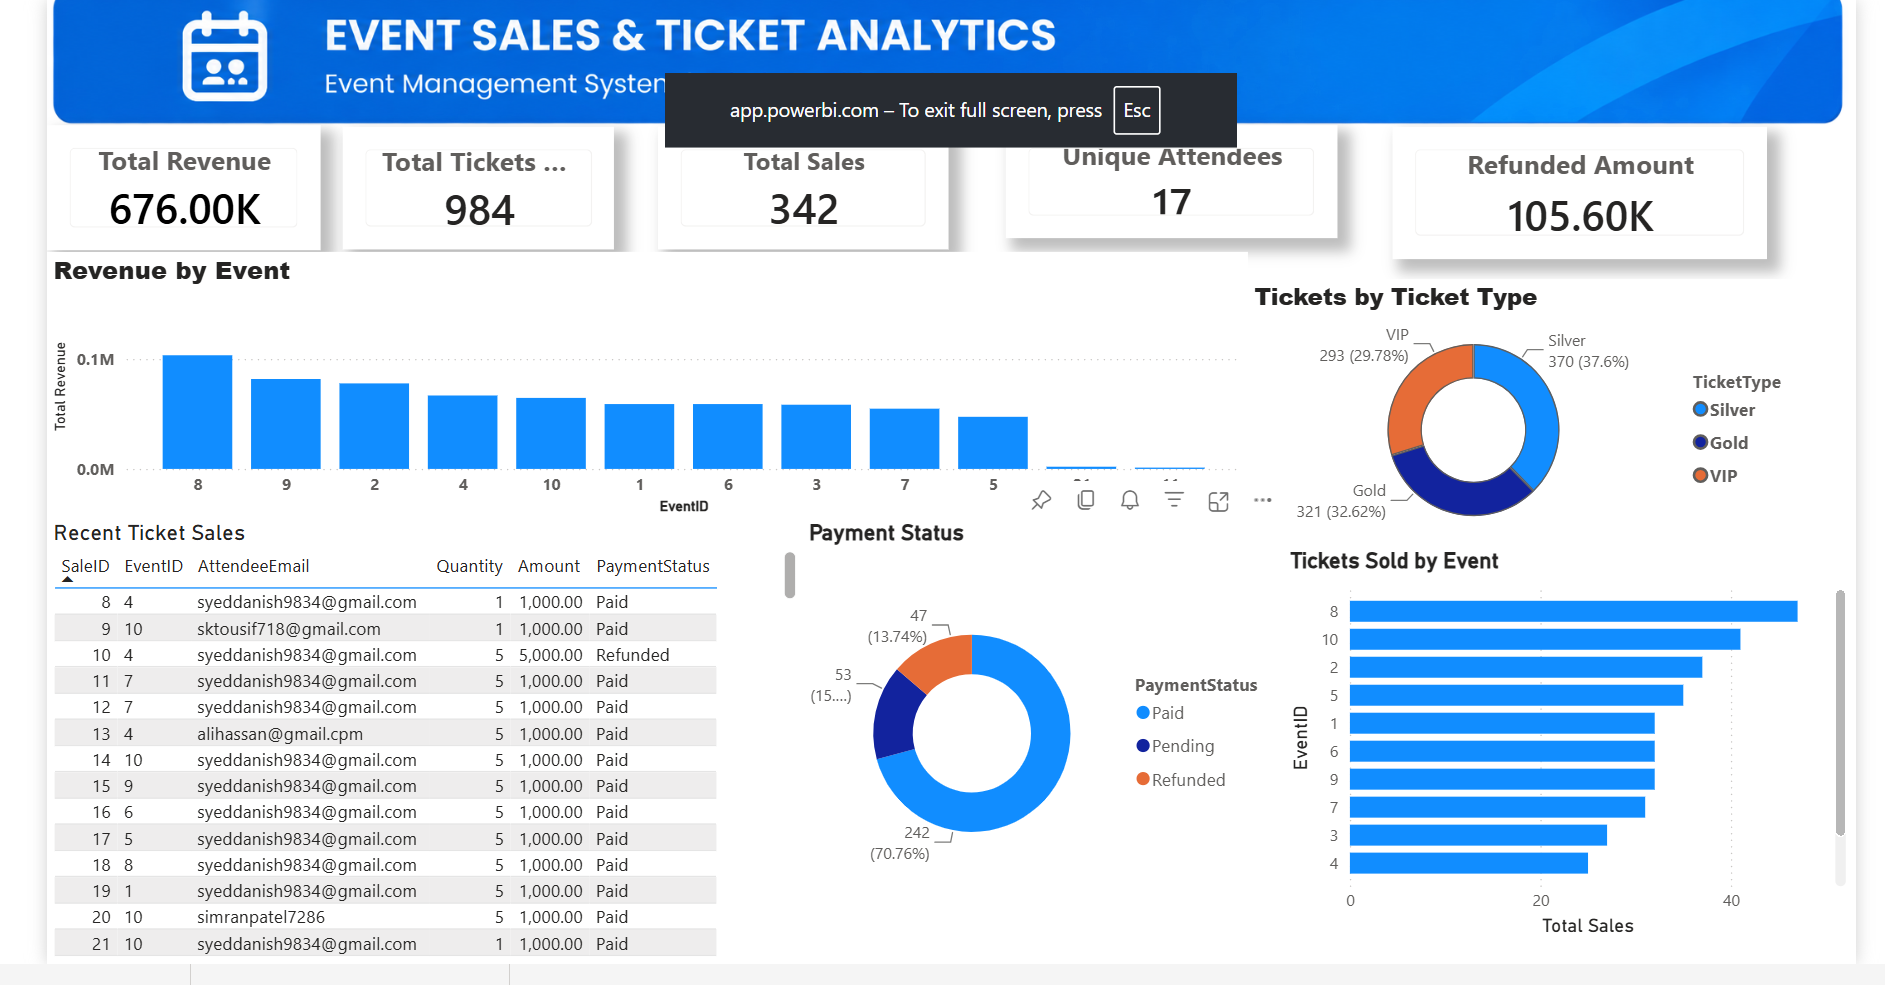

This screenshot's page, from the dashboard's own definition file:
{"tool":"powerbi","page":{"name":"Page 1","canvas":[1380,735],"ordinal":0},"visuals":[{"type":"image","box":[0,0,1373.7,95.6],"z":0},{"type":"cardVisual","fields":{"Data":["Dax.Total Revenue"]},"box":[0,95.3,208.8,95.3],"z":1000},{"type":"cardVisual","fields":{"Data":["Dax.Total Tickets Sold"]},"box":[225.3,97.1,207,93.4],"z":2000},{"type":"cardVisual","fields":{"Data":["Dax.Total Sales"]},"box":[465.3,97.1,221.7,93.4],"z":3000},{"type":"cardVisual","fields":{"Data":["Dax.Unique Attendees"]},"box":[730.9,95.3,252.8,86.1],"z":4000},{"type":"cardVisual","fields":{"Data":["Dax.Refunded Amount"]},"box":[1025.9,97.1,285.8,100.8],"z":5000},{"type":"donutChart","title":"Tickets by Ticket Type","fields":{"Category":["TicketSales.TicketType"],"Y":["Dax.Total Tickets Sold"]},"box":[916,212.5,434.2,205.2],"z":6000},{"type":"clusteredColumnChart","title":"Revenue by Event","fields":{"Category":["TicketSales.EventID"],"Y":["Dax.Total Revenue"]},"box":[0,192,915.5,204.9],"z":7000},{"type":"donutChart","title":"Payment Status","fields":{"Category":["TicketSales.PaymentStatus"],"Y":["Dax.Total Sales"]},"box":[575.9,396.8,367.3,306.4],"z":8000},{"type":"clusteredBarChart","title":"Tickets Sold by Event","fields":{"Category":["TicketSales.EventID"],"Y":["Dax.Total Sales"]},"box":[943.1,417.1,433.7,300.8],"z":9000},{"type":"tableEx","title":"Recent Ticket Sales","fields":{"Values":["TicketSales.SaleID","TicketSales.EventID","TicketSales.AttendeeEmail","TicketSales.Quantity","TicketSales.Amount","TicketSales.PaymentStatus"]},"box":[0,396.8,575.9,337.8],"z":10000}]}

Visuals, with their boxes on the page's 1380x735 design canvas (x1, y1, x2, y2). These are canvas units, not pixel positions in the 1885x985 screenshot, which may show the page scaled, cropped or inside an application window:
image: 0/0/1374/96
cardVisual - Dax.Total Revenue: 0/95/209/191
cardVisual - Dax.Total Tickets Sold: 225/97/432/190
cardVisual - Dax.Total Sales: 465/97/687/190
cardVisual - Dax.Unique Attendees: 731/95/984/181
cardVisual - Dax.Refunded Amount: 1026/97/1312/198
"Tickets by Ticket Type" donutChart: 916/212/1350/418
"Revenue by Event" clusteredColumnChart: 0/192/916/397
"Payment Status" donutChart: 576/397/943/703
"Tickets Sold by Event" clusteredBarChart: 943/417/1377/718
"Recent Ticket Sales" tableEx: 0/397/576/735
